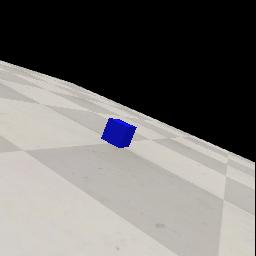box: (101, 118, 137, 148)
